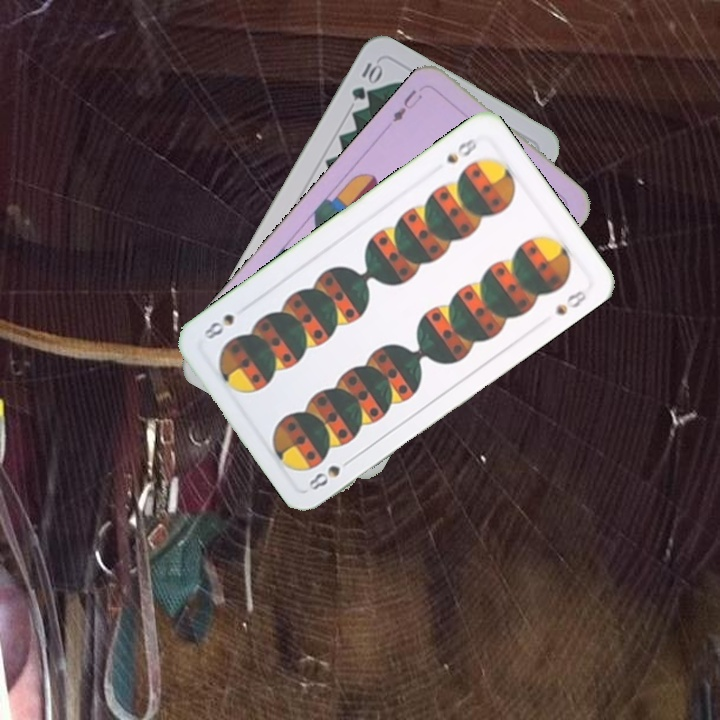EU: (388, 85, 425, 125)
G10: (347, 56, 385, 104)
S8: (442, 131, 481, 167), (304, 461, 343, 493)
